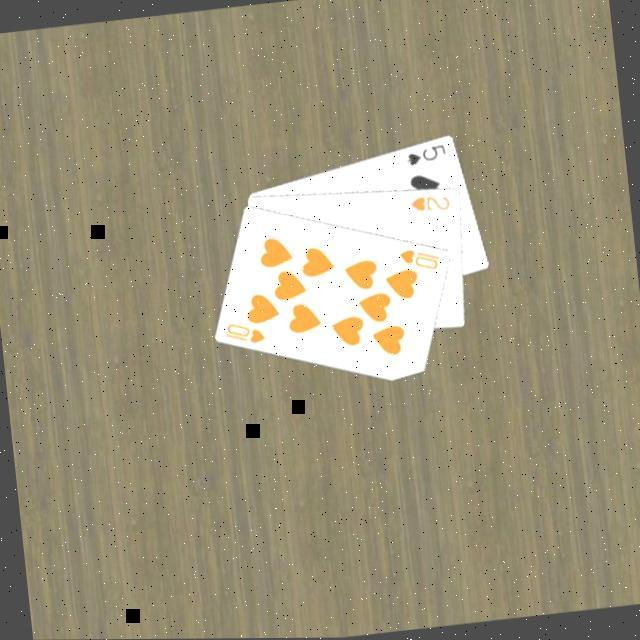10H: (221, 316, 270, 351), (396, 243, 444, 277)
2H: (407, 190, 454, 218)
5S: (403, 141, 451, 170)
